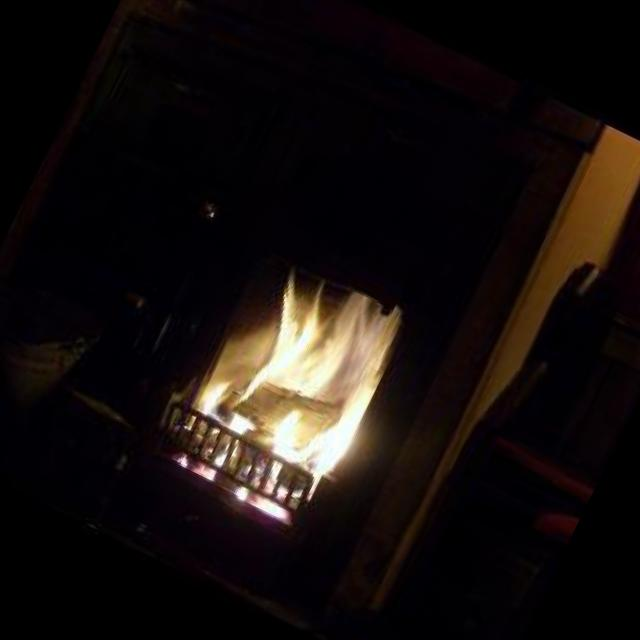fire: (170, 241, 414, 524)
